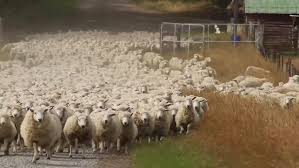sheep: (22, 105, 62, 161), (64, 113, 96, 159), (90, 110, 119, 154), (119, 109, 139, 155), (136, 108, 157, 149), (1, 112, 17, 157), (153, 103, 171, 142), (176, 97, 194, 136), (281, 95, 296, 110), (7, 105, 23, 119), (192, 96, 203, 115), (95, 99, 111, 109), (56, 106, 67, 120), (199, 95, 208, 111)
